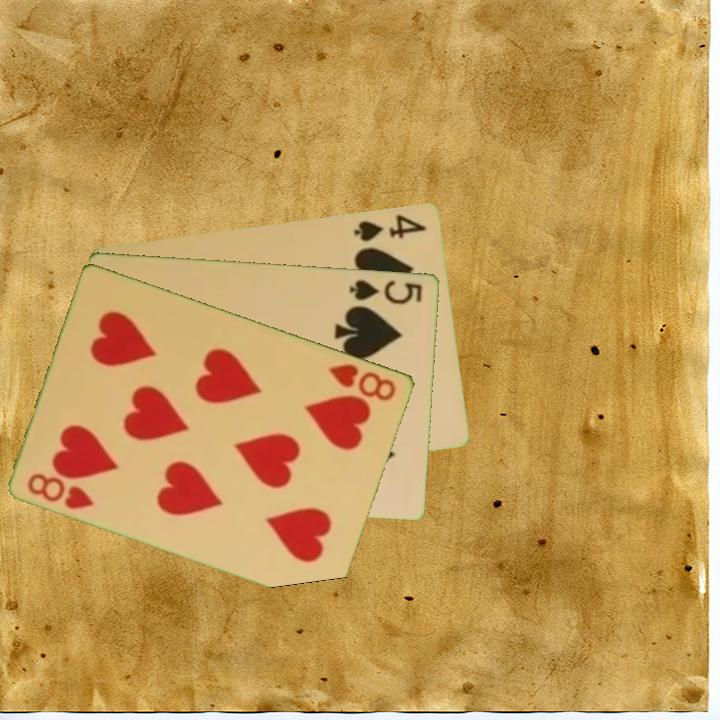4s: (351, 210, 429, 244)
5s: (346, 276, 425, 307)
8h: (325, 360, 400, 404), (24, 469, 97, 512)
